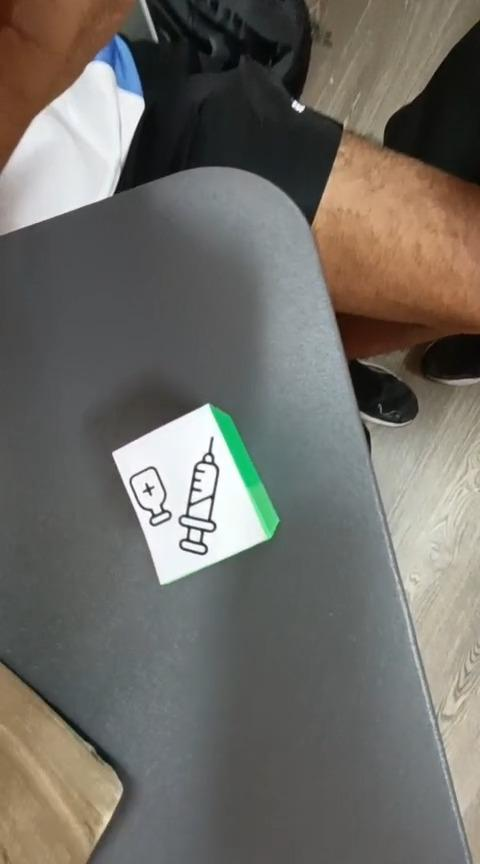antiseptic cream: (110, 401, 280, 586)
